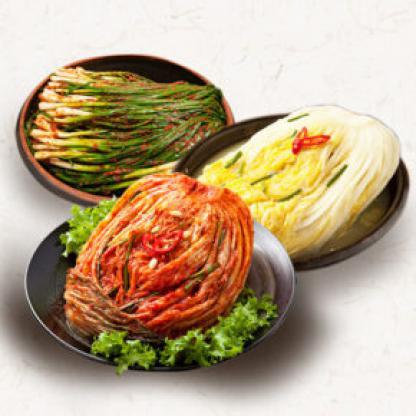kimchi: (76, 170, 251, 352)
